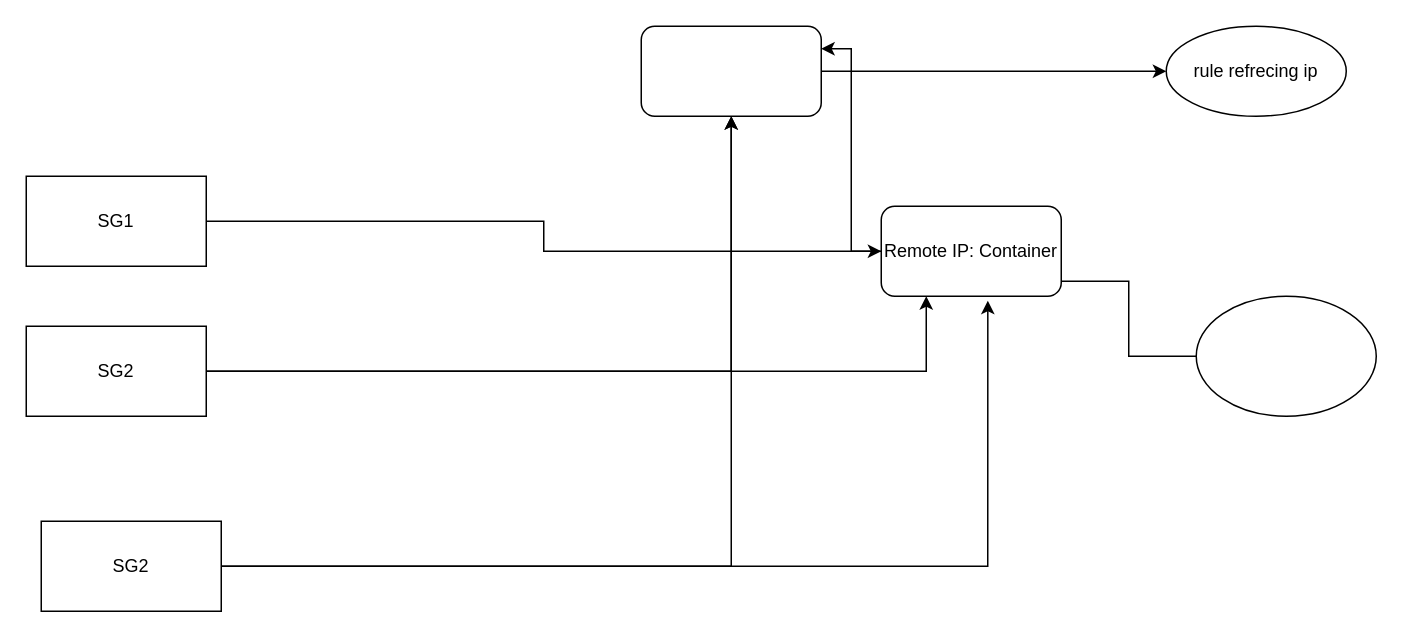
The diagram is 1403 pixels wide and 638 high, and some of its shapes have lost their labels. The shapes that lost their labels are listed below. From the top down, each one's centre as x and y in pixels, then its label:
pixel 730 70: SG3
pixel 1285 355: member ip=100
